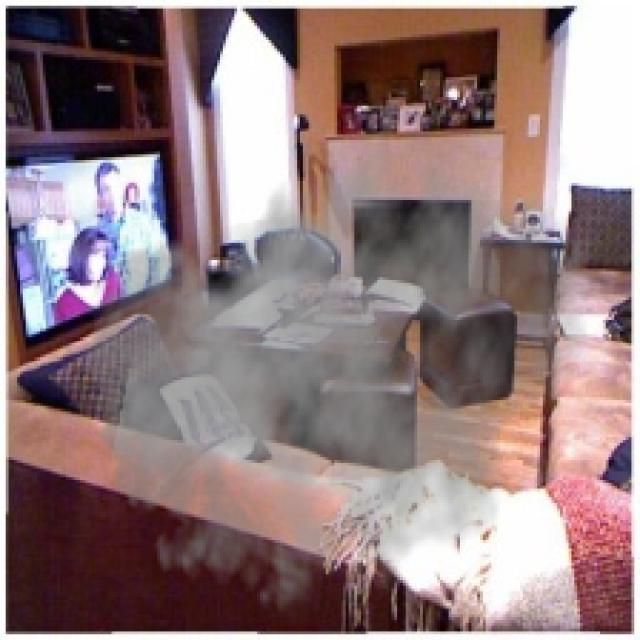Smoke: (75, 111, 594, 632)
